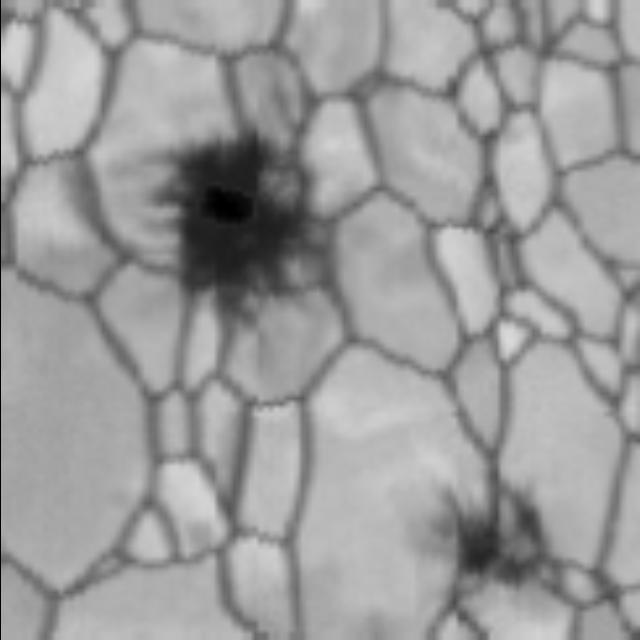good_void: (123, 86, 367, 342), (408, 477, 563, 612)
